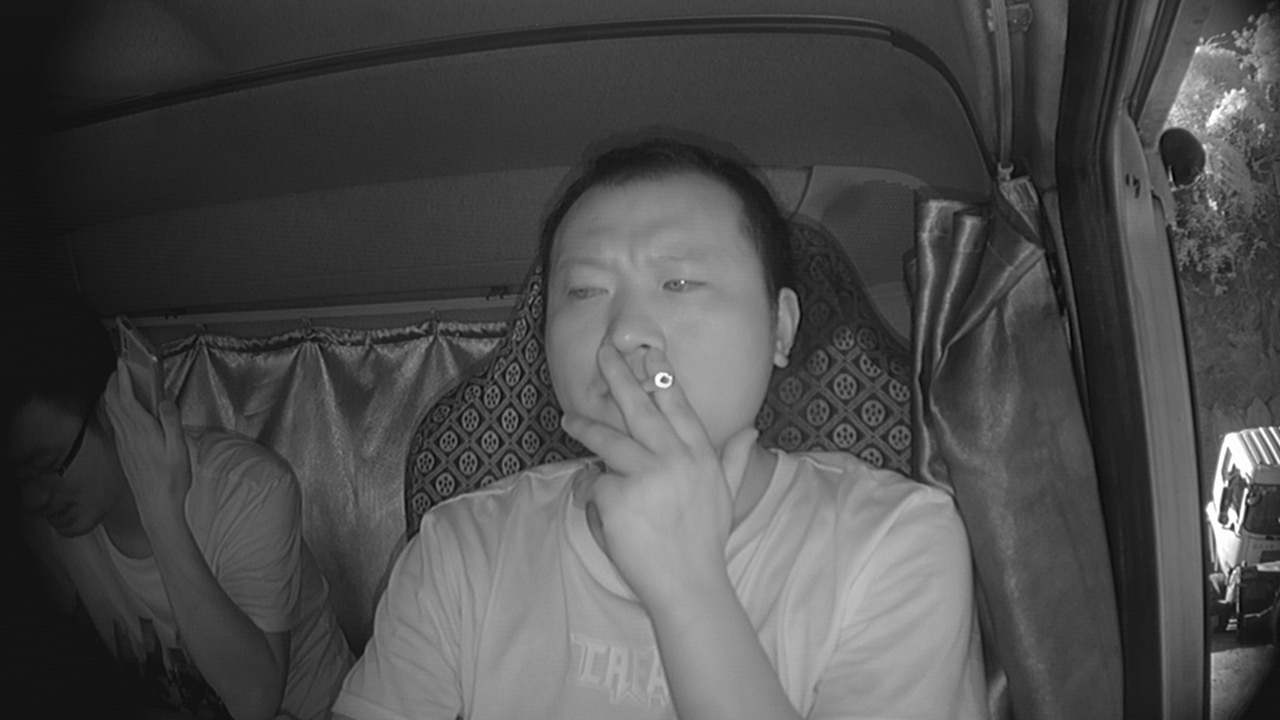hand: (569, 344, 748, 549)
